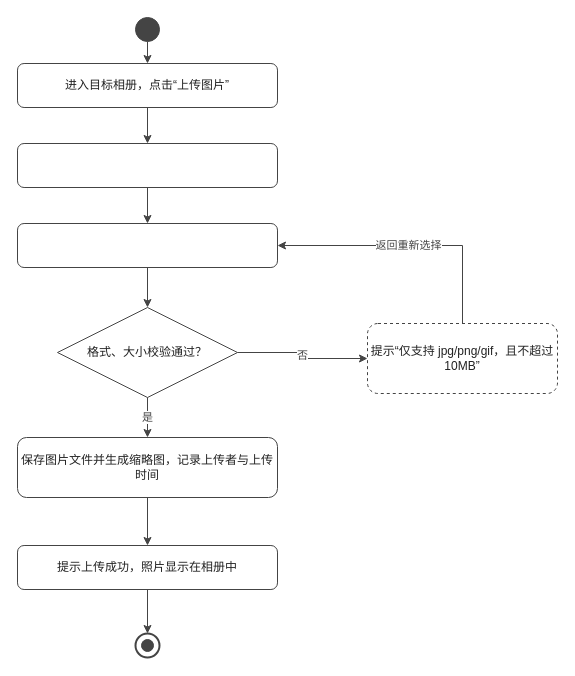
Image size: 575x676. Some labels were removed from this diagram. The shapes that lost their labels are listed below. From the top down, each one's centre as x and y in pixels, then its label:
At (x=147, y=165): "系统显示文件选择窗口".
At (x=147, y=245): "选择本地图片文件并提交".
